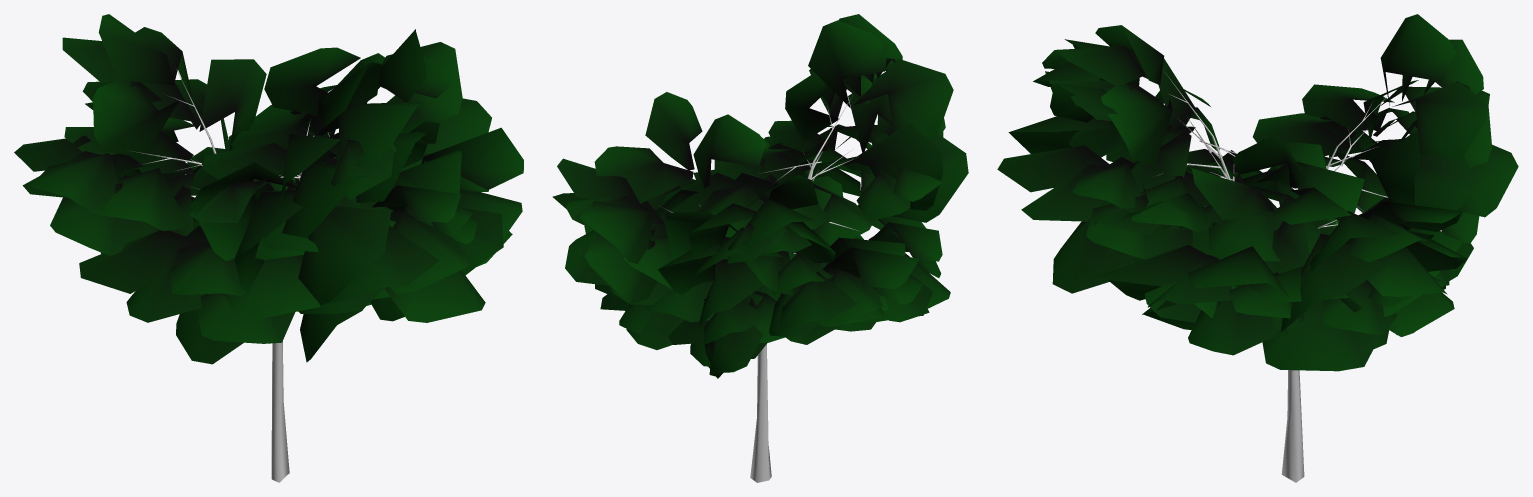
Rendered from CupuacuTree02_afsTREE_xlprl05_xlt_xef20_xmw03_xlb05_xlod02.fbx.
3 views of the same model, side by side, from view 1: azimuth 30°, elevation 25°; view 2: azimuth 150°, elevation 25°; view 3: azimuth 270°, elevation 25° (orthographic). The views are drawn at different scales.
Parts seen in each view (by area): view 1: branch00_00.034, branch00_00.002, branch02_02.030, branch00_00.007, branch02_02.025, branch02_02.031, branch00_00.032, branch02_02.045, branch02_02.047, branch02_02.037, branch00_00.006, branch02_02.018 (+42 smaller); view 2: branch00_00.033, branch00_00.031, branch00_00.027, branch.021, branch.018, branch02_02.025, branch.028, branch02_02.027, branch02_02.044, branch02_02.047, branch00_00.011, branch00_00.028 (+48 smaller); view 3: branch02_02.062, branch00_00.010, branch00_00.006, branch02_02.026, branch00_00.030, branch02_02.042, branch02_02.020, branch02_02.037, branch00_00.008, branch02_02.016, branch02_02.051, branch02_02.039 (+44 smaller).
Boxes of the visible parts, x1,y1,x2,y2 form: branch00_00.034: (298, 206, 391, 304); branch00_00.002: (93, 80, 178, 158); branch02_02.030: (79, 230, 202, 293); branch00_00.007: (199, 59, 266, 150); branch02_02.025: (264, 47, 360, 115); branch02_02.031: (223, 255, 320, 319); branch00_00.032: (317, 101, 425, 165); branch02_02.045: (87, 168, 189, 230); branch02_02.047: (30, 153, 119, 210); branch02_02.037: (325, 225, 439, 303); branch00_00.006: (98, 14, 174, 85); branch02_02.018: (421, 127, 523, 189); branch00_00.033: (853, 58, 953, 137); branch00_00.031: (808, 20, 884, 108); branch00_00.027: (850, 122, 942, 210); branch.021: (594, 146, 693, 203); branch.018: (693, 114, 765, 188); branch02_02.025: (580, 201, 651, 263); branch.028: (645, 92, 702, 170); branch02_02.027: (584, 228, 657, 304); branch02_02.044: (779, 271, 856, 330); branch02_02.047: (823, 247, 919, 289); branch00_00.011: (698, 259, 763, 326); branch00_00.028: (853, 134, 968, 222); branch02_02.062: (1262, 301, 1380, 371); branch00_00.010: (1392, 81, 1488, 161); branch00_00.006: (1380, 14, 1455, 107); branch02_02.026: (1281, 233, 1386, 331); branch00_00.030: (1101, 83, 1172, 164); branch02_02.042: (1052, 218, 1134, 293); branch02_02.020: (1188, 299, 1276, 355); branch02_02.037: (997, 145, 1113, 192); branch00_00.008: (1414, 153, 1476, 210); branch02_02.016: (1101, 245, 1208, 300); branch02_02.051: (1209, 186, 1282, 261); branch02_02.039: (1086, 185, 1169, 259).
Size of what is drawn, in the model's own units: 2.72 by 3.02 by 2.89.
